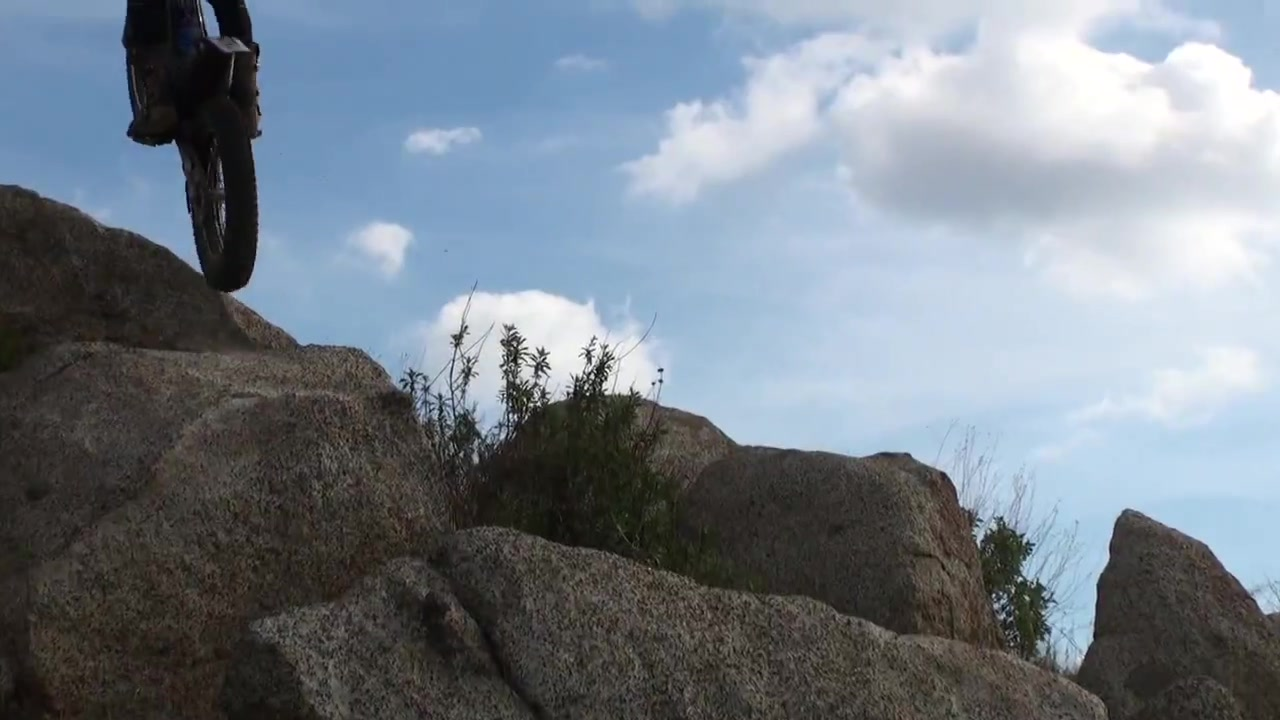motorbike: (121, 1, 271, 299)
